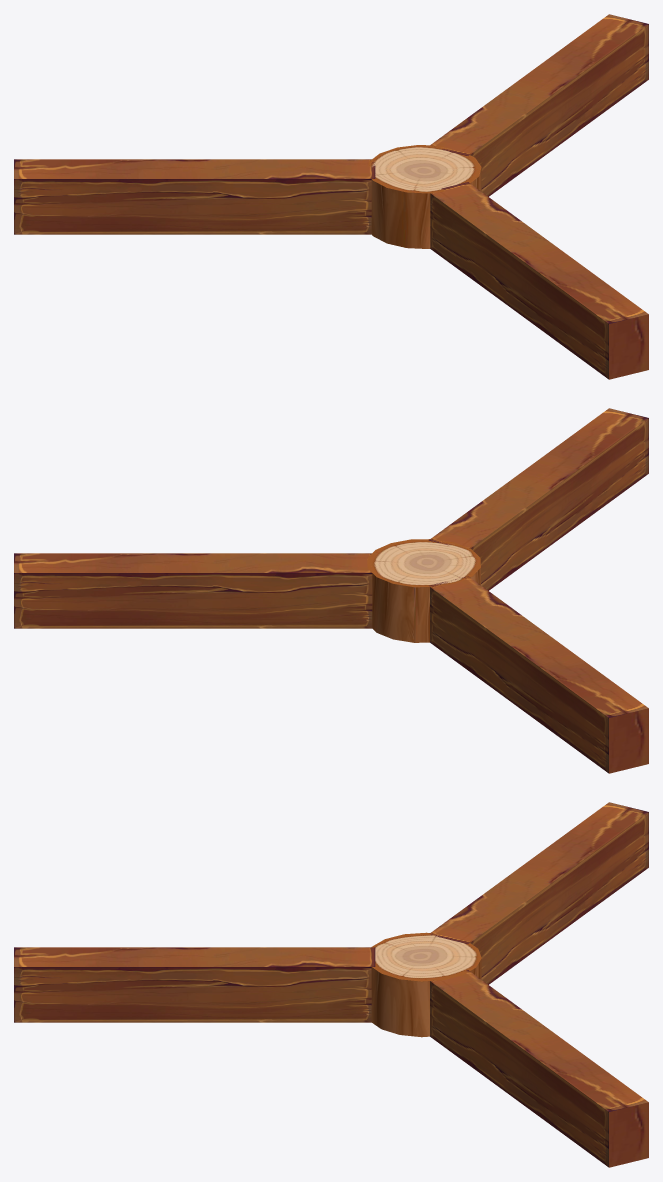
Rendered from three_blade_wood_03.fbx.
The picture shows the model from 3 angles, top to bottom: view 1: azimuth 30°, elevation 25°; view 2: azimuth 150°, elevation 25°; view 3: azimuth 270°, elevation 25°; orthographic projection.
Visible parts, largest first — view 1: Blade_66, Blade_64, Blade_65, wood_center_10; view 2: Blade_65, Blade_66, Blade_64, wood_center_10; view 3: Blade_64, Blade_65, Blade_66, wood_center_10.
Boxes of the visible parts, bbox=[...] form: Blade_66: bbox=[14, 159, 375, 234]; Blade_64: bbox=[430, 182, 648, 379]; Blade_65: bbox=[430, 14, 648, 196]; wood_center_10: bbox=[367, 145, 481, 248]; Blade_65: bbox=[14, 553, 372, 628]; Blade_66: bbox=[429, 576, 648, 773]; Blade_64: bbox=[428, 408, 648, 590]; wood_center_10: bbox=[367, 539, 480, 642]; Blade_64: bbox=[14, 947, 375, 1022]; Blade_65: bbox=[430, 970, 648, 1167]; Blade_66: bbox=[429, 802, 648, 984]; wood_center_10: bbox=[371, 932, 481, 1037].
Bounding box in the file's own units: 478 × 40 × 414.
